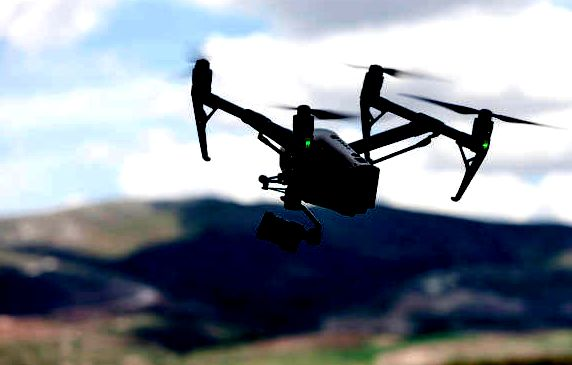Drone: (168, 38, 563, 228)
